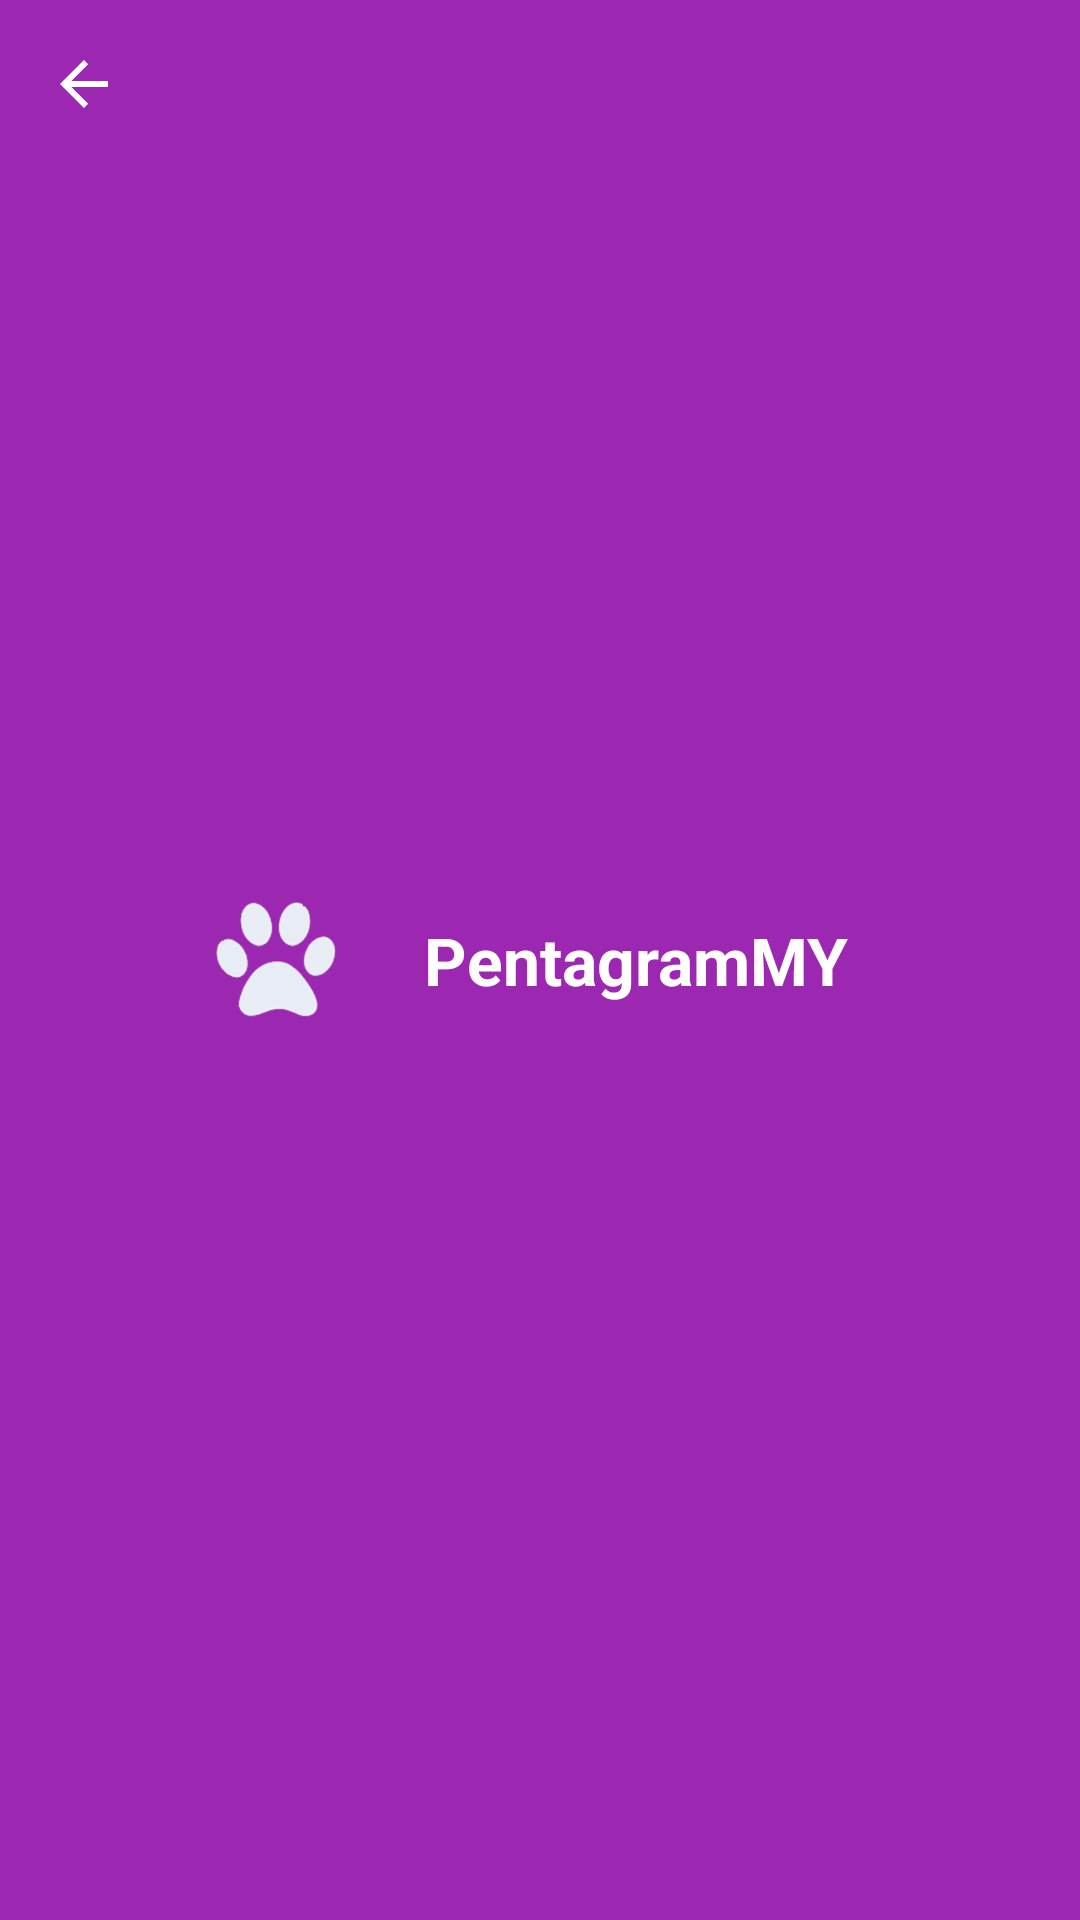

Screen size 1080w x 1920h. Icon name, then its box in pixels as Rect(x1, y1, x2, y2):
huellapet: Rect(216, 902, 336, 1017)
